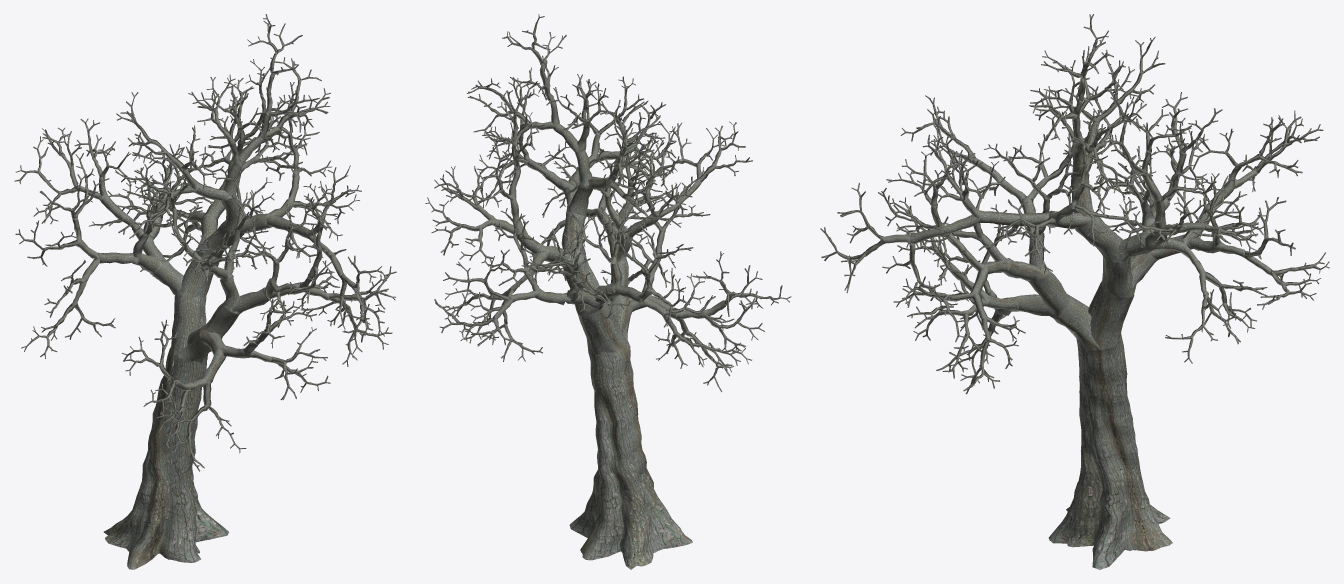
File: tree_linden.glb
The picture shows the model from 3 angles, left to right: view 1: azimuth 30°, elevation 25°; view 2: azimuth 150°, elevation 25°; view 3: azimuth 270°, elevation 25°; orthographic projection. The views are drawn at different scales.
Visible parts, largest first — view 1: Object_2; view 2: Object_2; view 3: Object_2.
Part boxes in pixels (x1,y1,x2,y2): Object_2: [14, 14, 396, 569]; Object_2: [425, 14, 791, 569]; Object_2: [820, 14, 1329, 569].
Bounding box in the file's own units: 11.19 × 18 × 14.46.
1 material, 1 textured.
